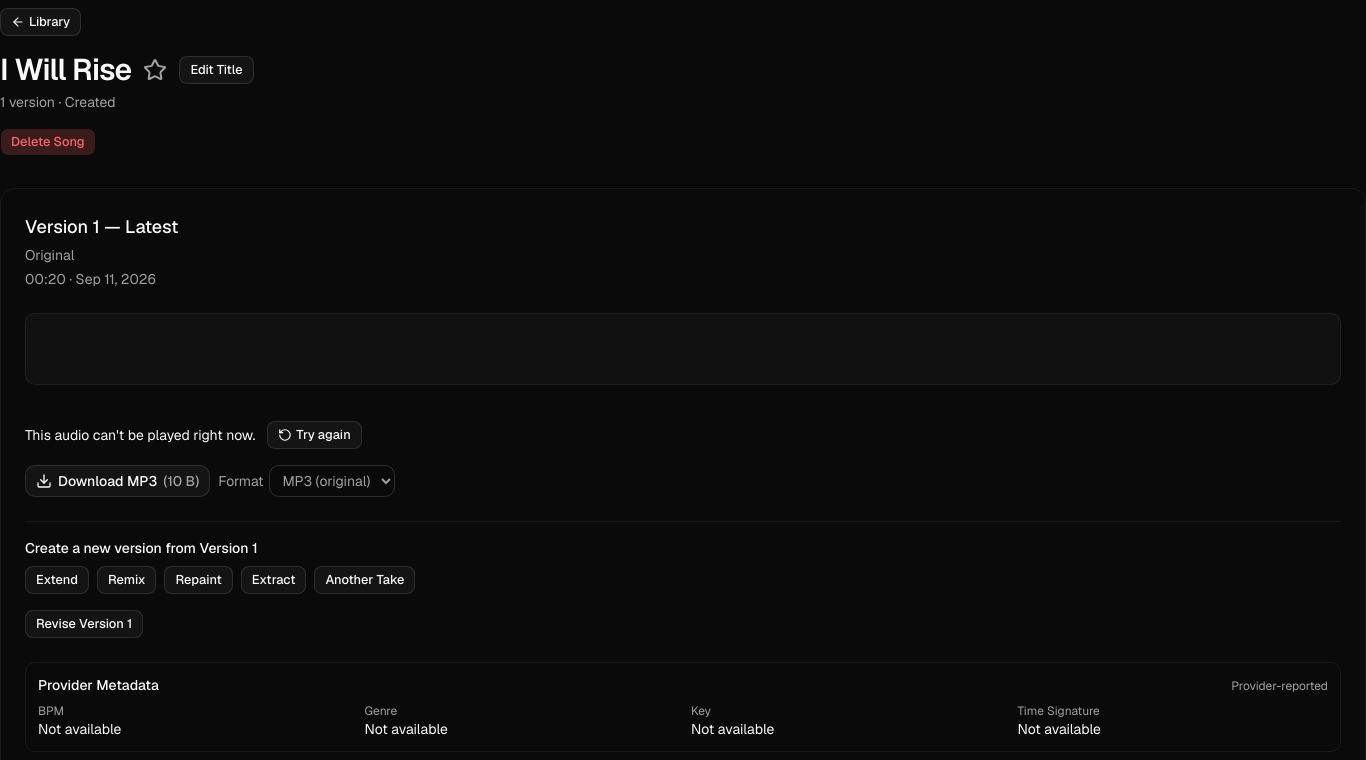
Test: Version actions › a 409 from the backend shows a fixed message, keeps the form open and creates no pending version
The image size is (1366, 760).
Click the button "Extend" at [57, 580], box top-left (25, 566), bottom-right (89, 594)
(page scrolled)
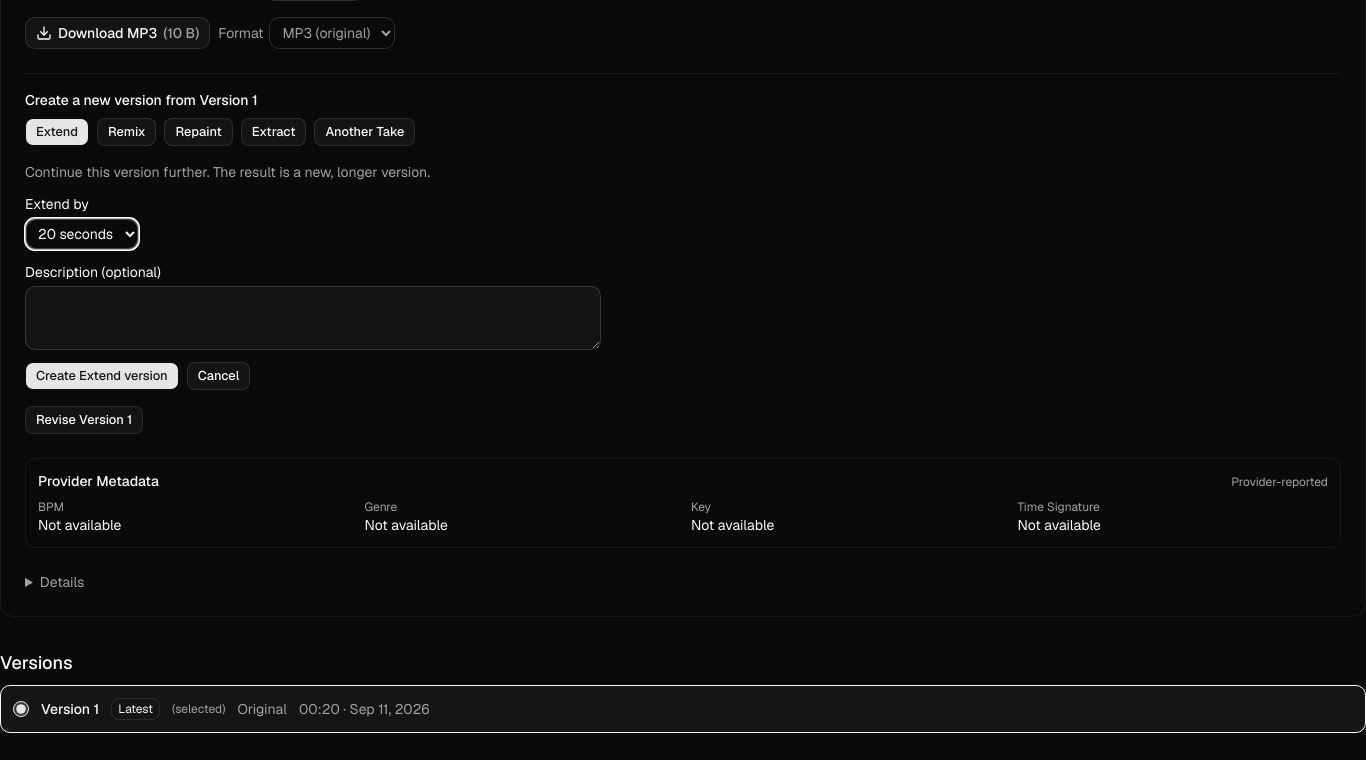
Click the button "Create Extend version" at [102, 376], box top-left (25, 362), bottom-right (179, 390)
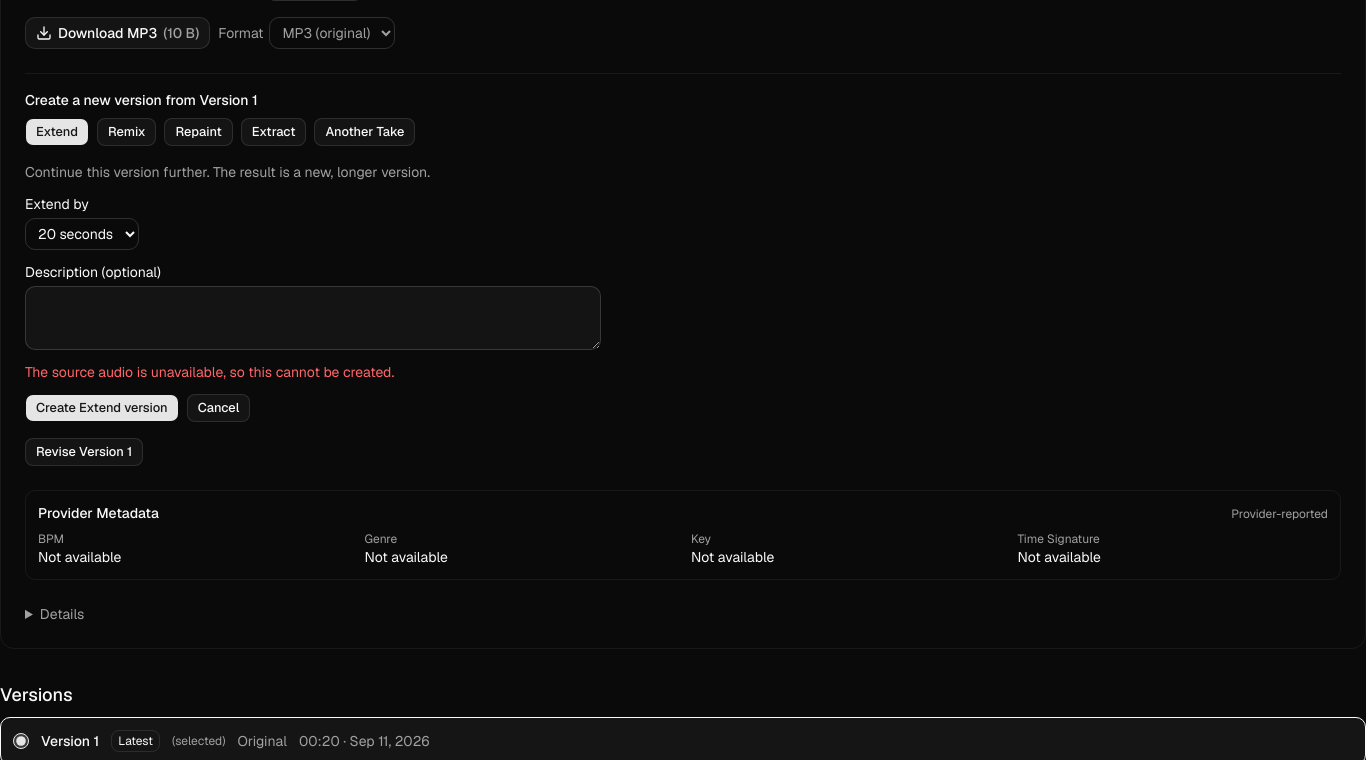
Result: the form with test id "op-form-extend" is shown at top-left (25, 162), bottom-right (601, 422)
Result: the message with test id "op-error" shows "source audio is unavailable" at top-left (25, 363), bottom-right (394, 381)
